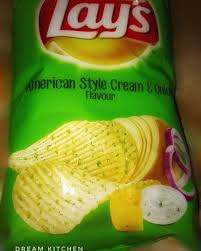lays-small: (6, 1, 193, 248)
